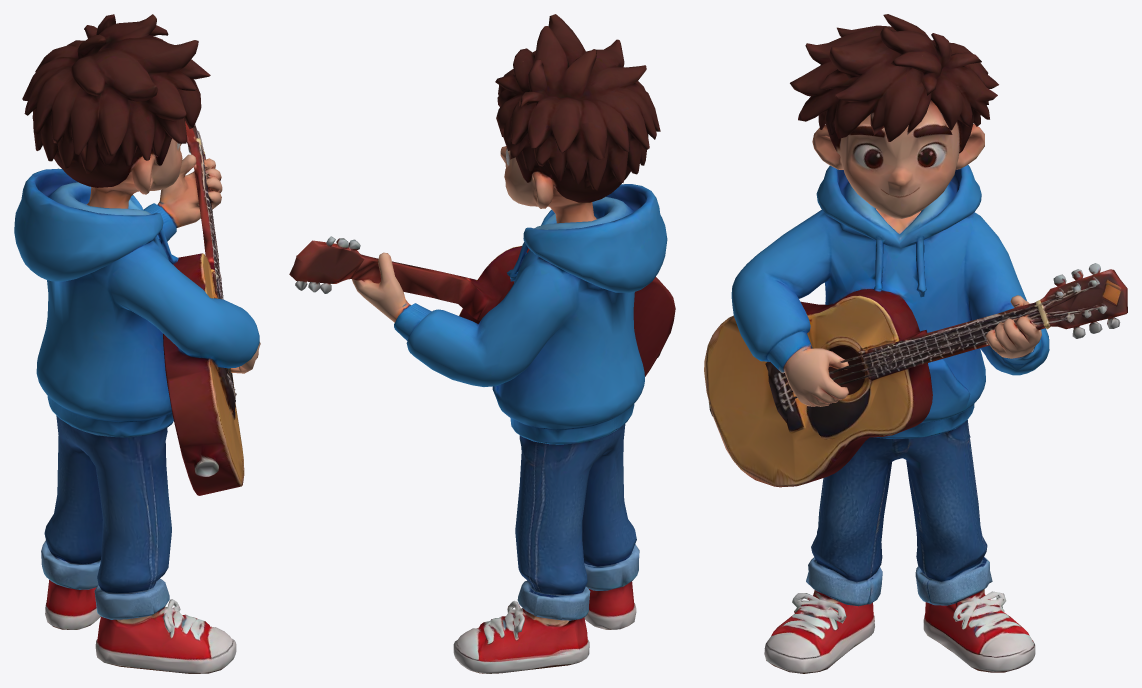
File: guitar_boy.glb
3 views of the same model, side by side, from view 1: azimuth 30°, elevation 25°; view 2: azimuth 150°, elevation 25°; view 3: azimuth 270°, elevation 25° (orthographic). The views are drawn at different scales.
Parts seen in each view (by area): view 1: tripo_node_1addfb38-0000-4700-92ab-3b252b75c05c; view 2: tripo_node_1addfb38-0000-4700-92ab-3b252b75c05c; view 3: tripo_node_1addfb38-0000-4700-92ab-3b252b75c05c.
Boxes of the visible parts, x1=… form: tripo_node_1addfb38-0000-4700-92ab-3b252b75c05c: x1=14, y1=14, x2=260, y2=673; tripo_node_1addfb38-0000-4700-92ab-3b252b75c05c: x1=289, y1=14, x2=675, y2=673; tripo_node_1addfb38-0000-4700-92ab-3b252b75c05c: x1=704, y1=14, x2=1127, y2=673.
Size of the model in its own units: 0.5414 by 1.2 by 0.7298.
Materials: 1 (1 with a texture image).
